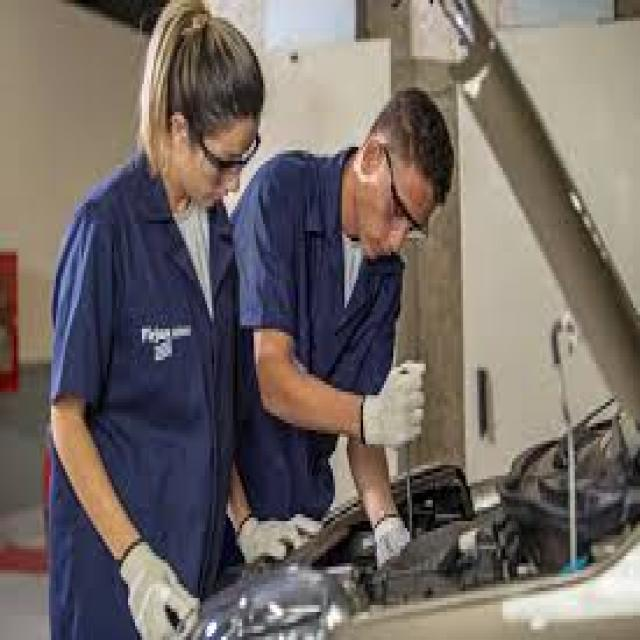JALECO: (47, 150, 234, 637), (223, 145, 403, 572)
LUVA: (118, 525, 205, 637), (360, 358, 426, 454), (232, 508, 326, 570), (368, 507, 416, 572)
OCULOS: (375, 147, 435, 251), (187, 127, 264, 182)
